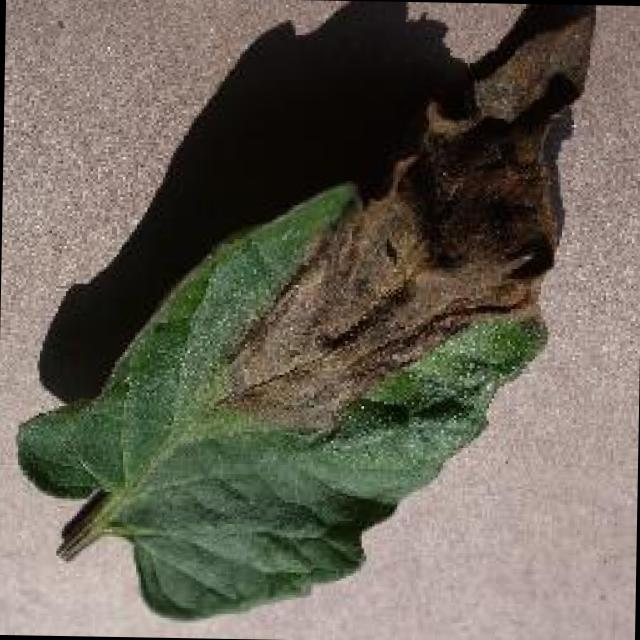Tomato_Late_Blight: (232, 23, 610, 427)
